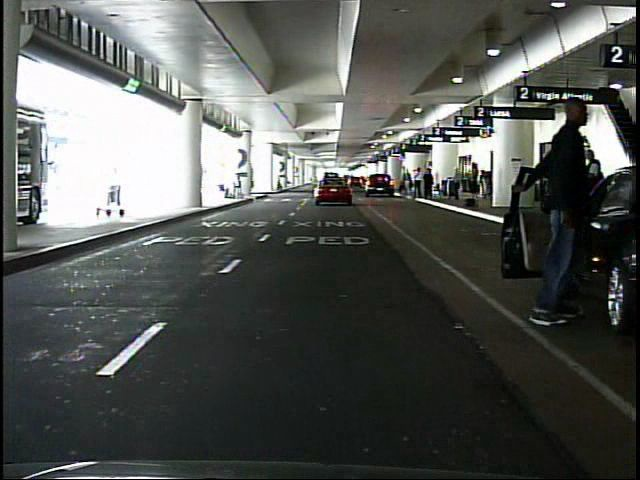person: (520, 98, 604, 329), (553, 142, 584, 241), (580, 146, 606, 179), (468, 162, 480, 206), (450, 167, 464, 202), (423, 167, 435, 201), (412, 166, 423, 200), (403, 169, 413, 197), (275, 172, 284, 189)
